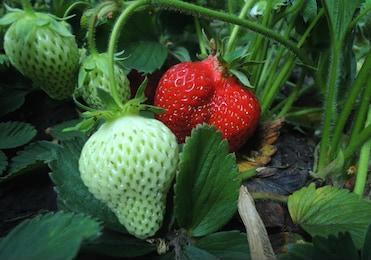Fresa: (151, 53, 266, 158)
